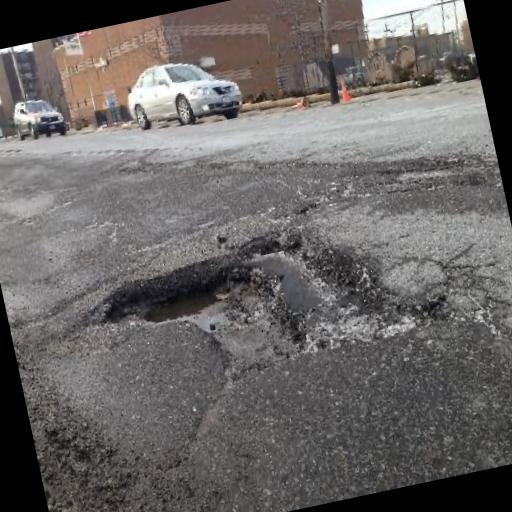pothole: (92, 204, 420, 396), (378, 150, 468, 202)
